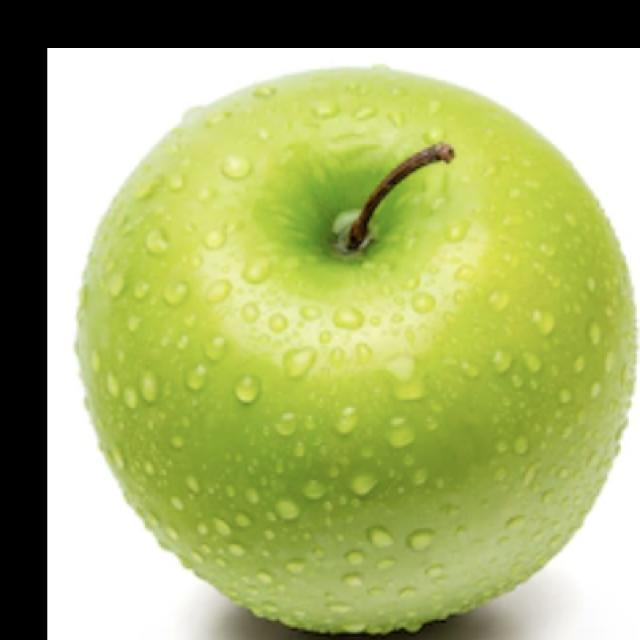Fresh Apple: (78, 65, 640, 640)
